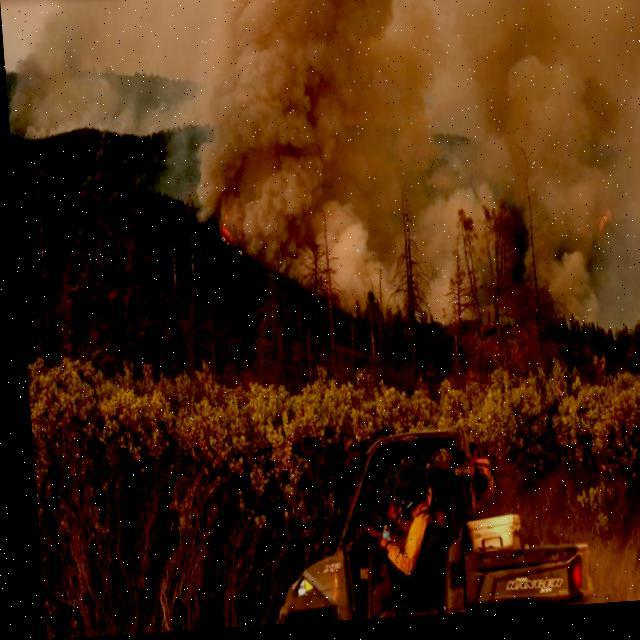Fire: (214, 211, 228, 244), (593, 214, 609, 240)
